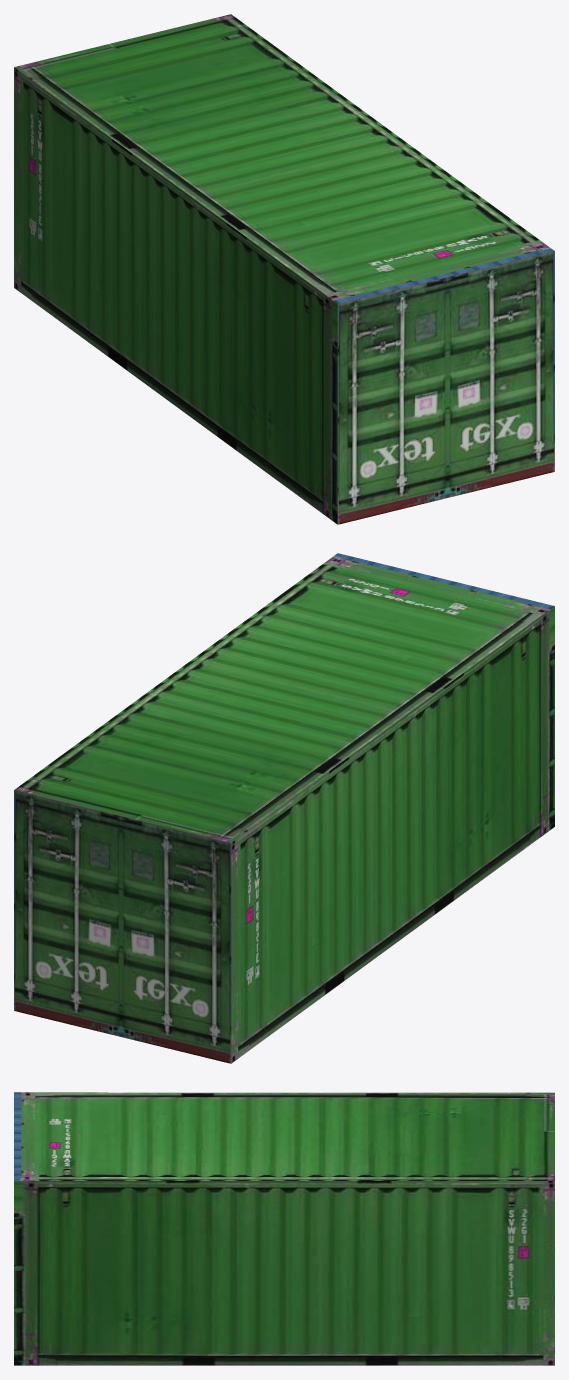
File: green.fbx
3 views of the same model, one above another, from view 1: azimuth 30°, elevation 25°; view 2: azimuth 150°, elevation 25°; view 3: azimuth 270°, elevation 25° (orthographic). The views are drawn at different scales.
Visible parts, largest first — view 1: polySurface33; view 2: polySurface33; view 3: polySurface33.
Boxes of the visible parts, x1,y1,x2,y2 form: polySurface33: [14, 14, 554, 524]; polySurface33: [14, 553, 554, 1063]; polySurface33: [14, 1092, 554, 1365].
Bounding box in the file's own units: 6.45 × 6.26 × 16.65.
Materials: 1 (1 with a texture image).
